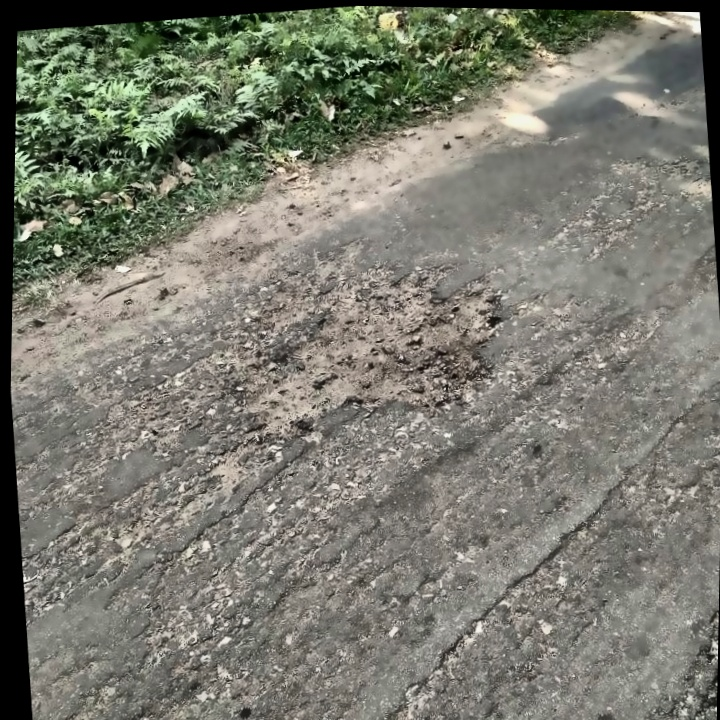pothole: (236, 250, 519, 442)
